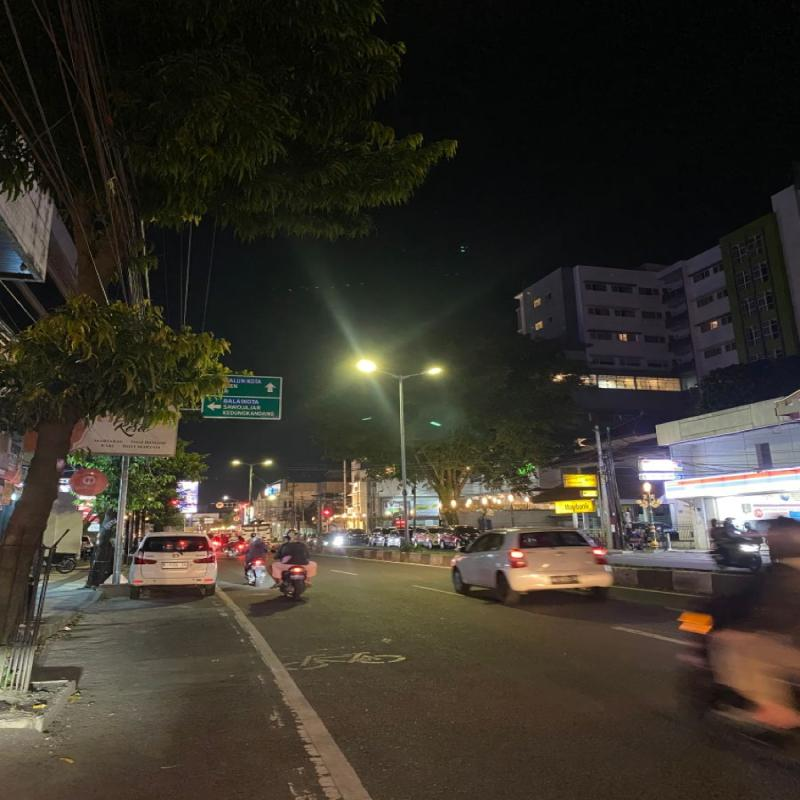license plate on a car: (549, 574, 585, 586), (160, 559, 191, 570)
